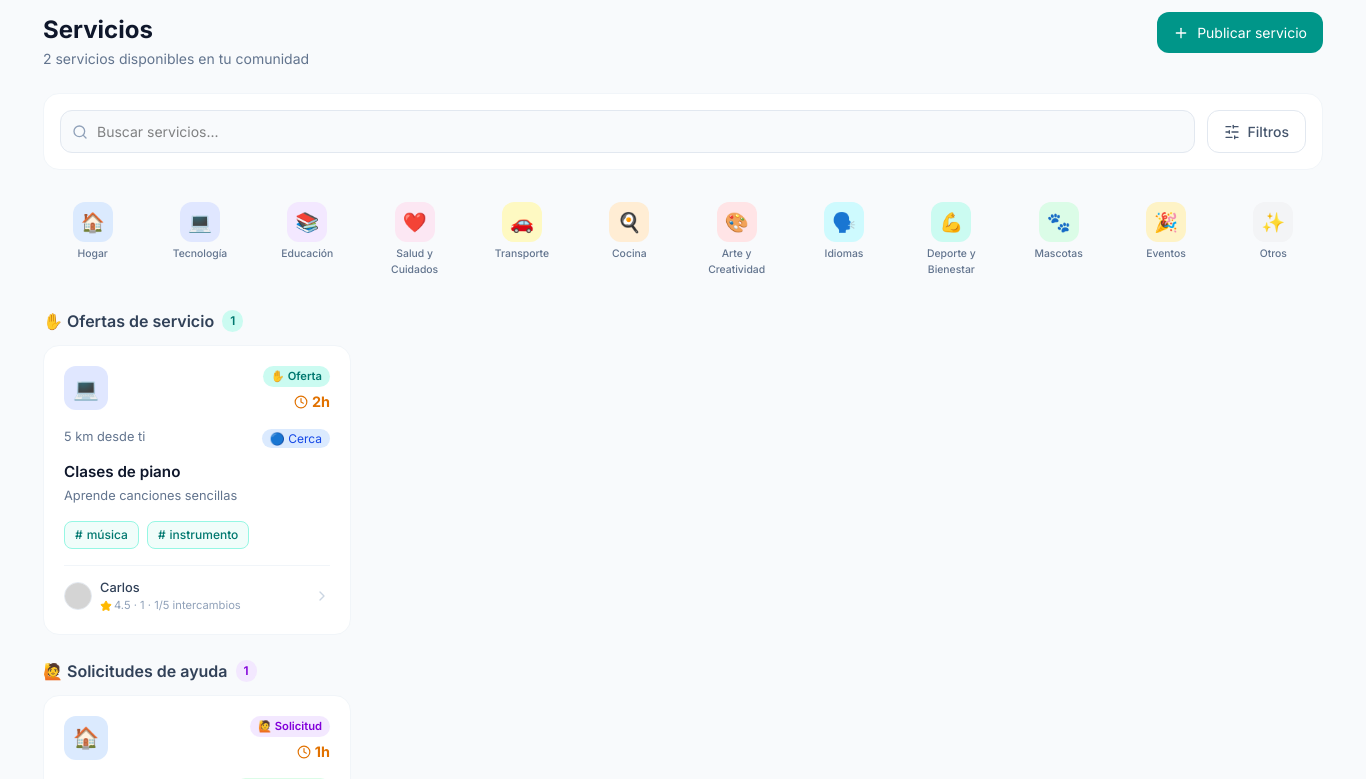
it: Services page (coverage) › category quick access filters services when clicking a category tile
Click the button "🏠 Hogar". click: (93, 240)
box: [43,194,142,285]
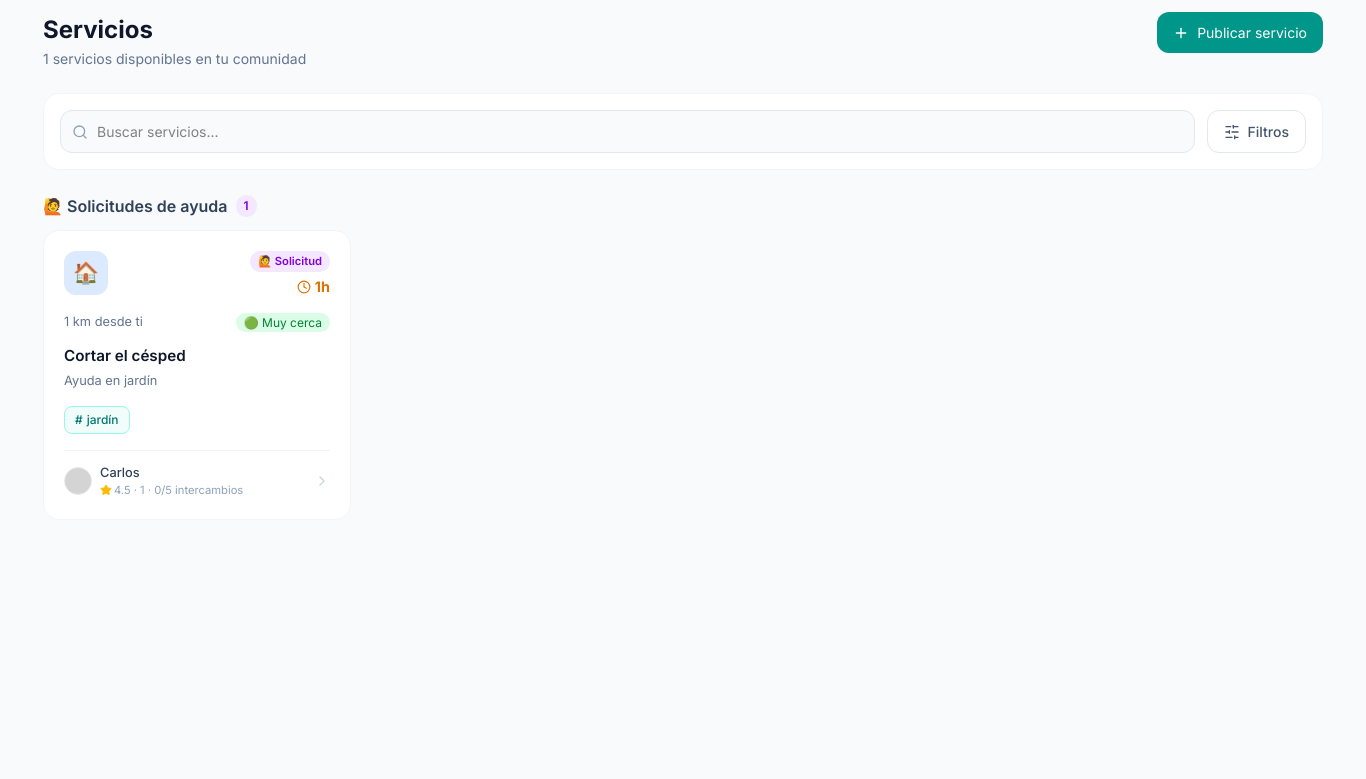
Expected: the heading "Cortar el césped" is shown, [64,346,186,365]
Expected: the link "Clases de piano" is gone
